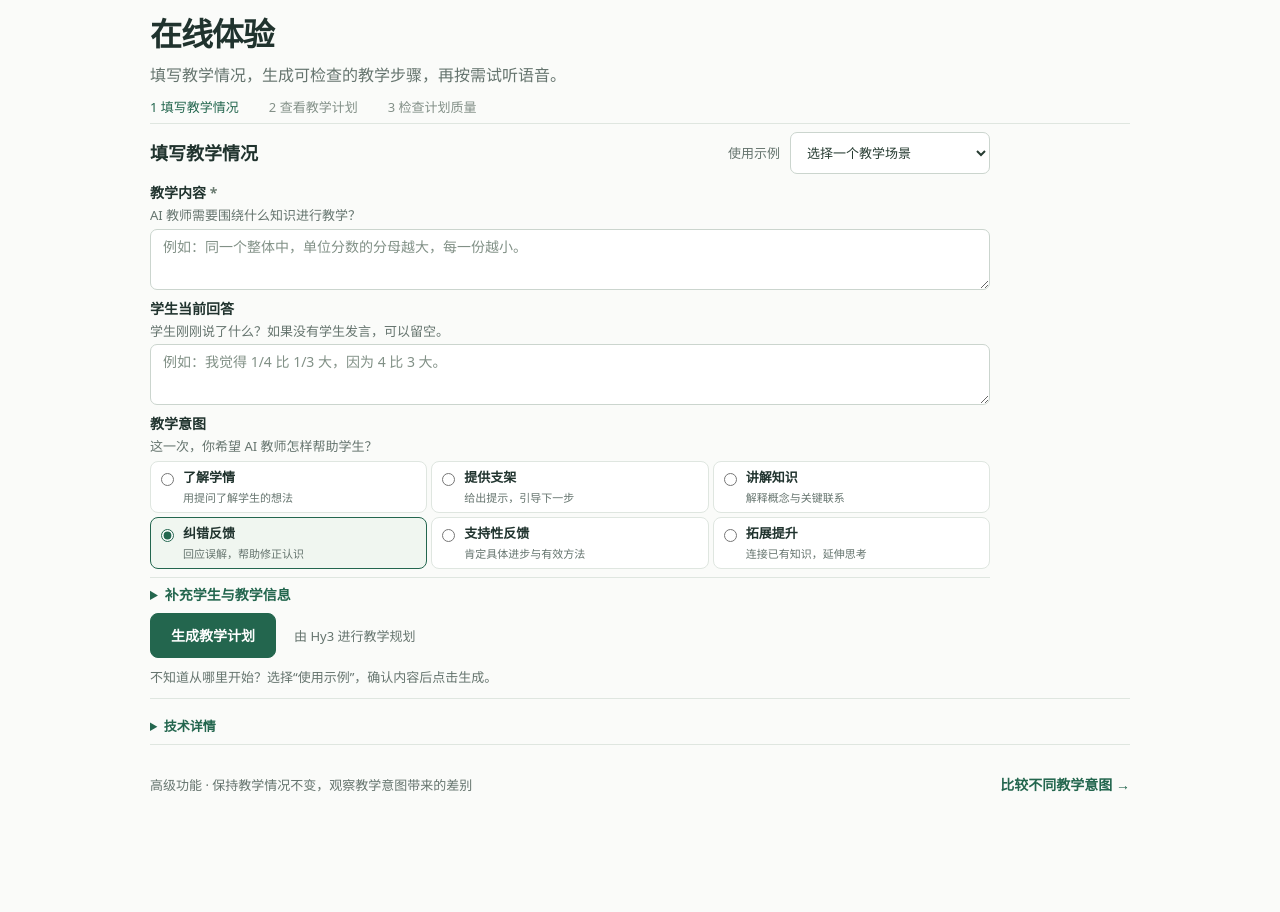
it: validates content locally and accepts an absent student utterance
The image size is (1280, 912).
Click the button "生成教学计划". click: (213, 636)
box: 150,614 -> 276,658
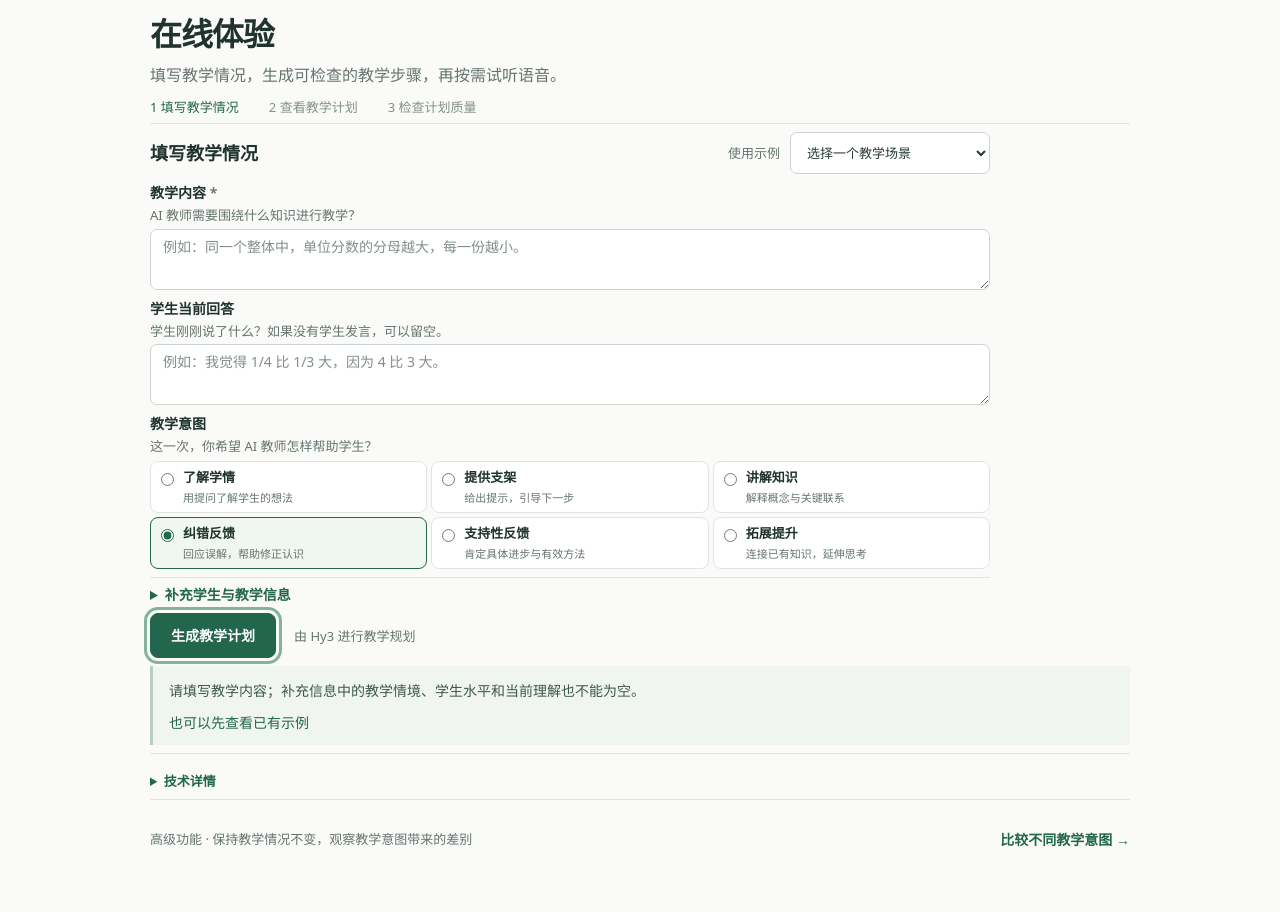
Type "分母表示平均分成的份数。" into the text box labelled "教学内容 *". click: (570, 259)
box: 150,229 -> 990,290
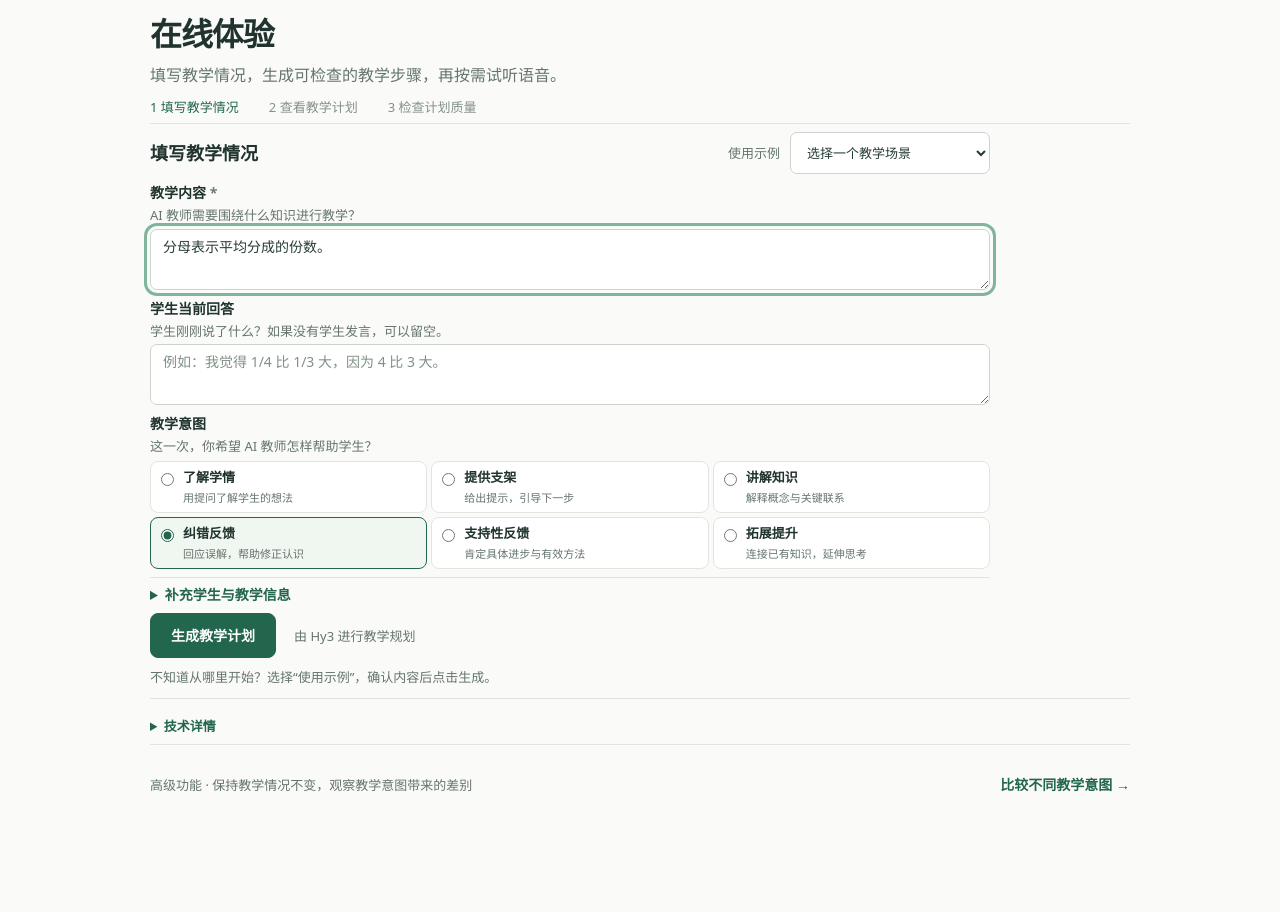
Click the button "生成教学计划". click: (213, 636)
box: 150,614 -> 276,658
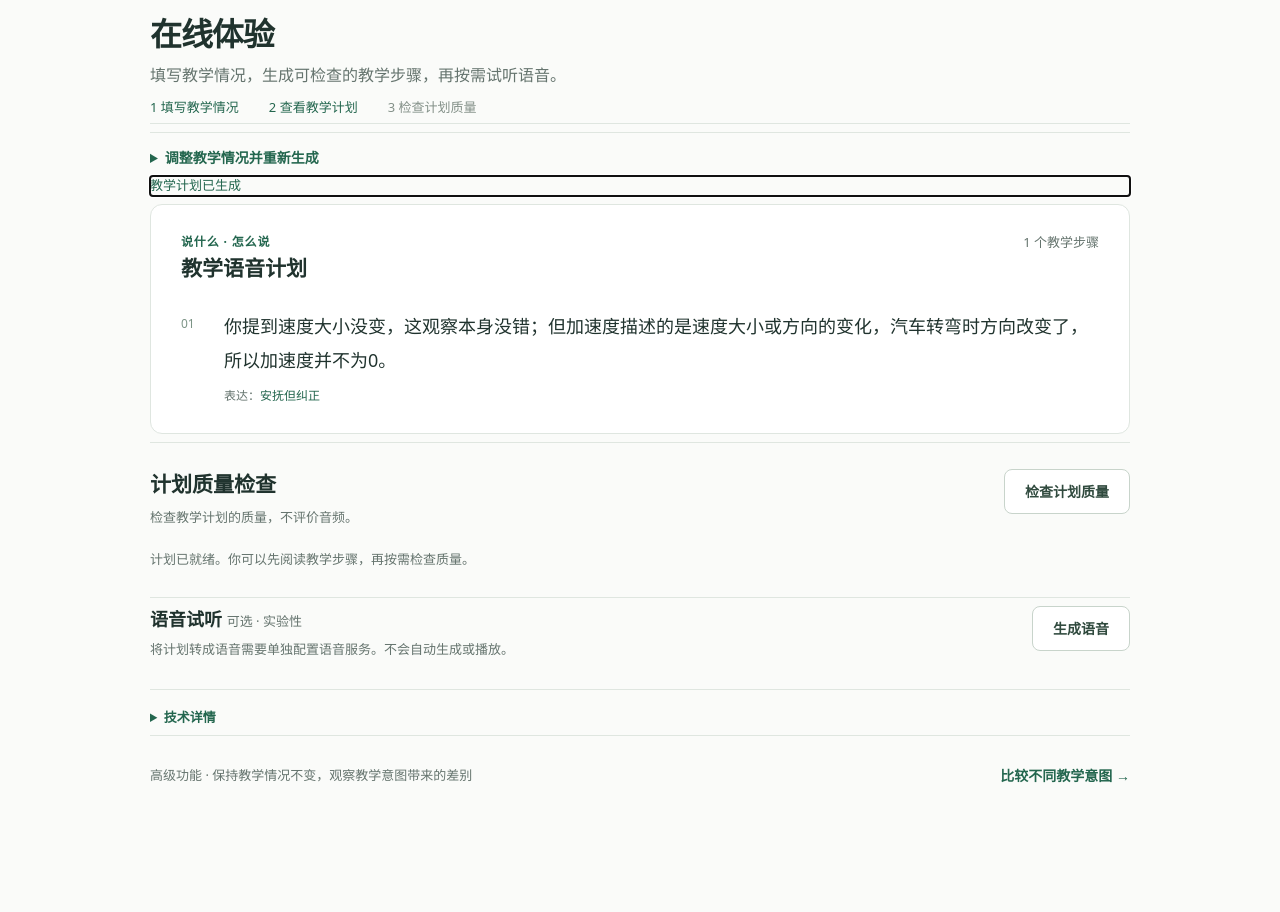
Now the text "教学计划已生成" is shown, box 150,176 -> 241,194
